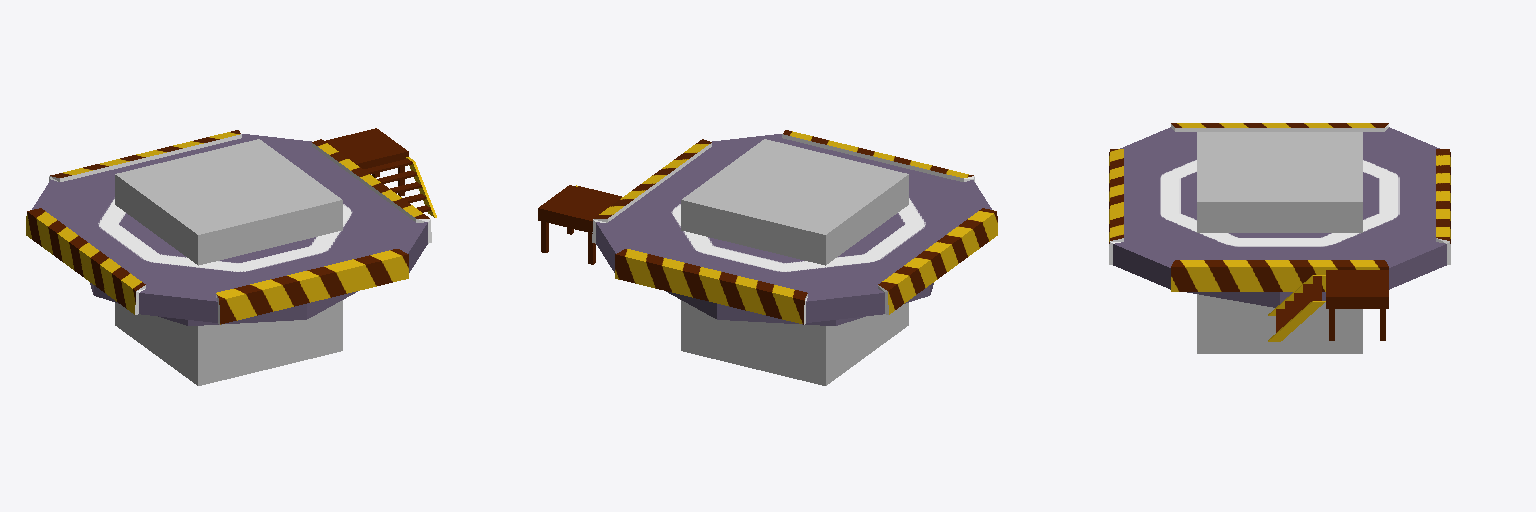
3 renders of one model, left to right at view 1: azimuth 30°, elevation 25°; view 2: azimuth 150°, elevation 25°; view 3: azimuth 270°, elevation 25°, orthographic.
Visible parts, largest first — view 1: Props_Helipad_01, Cube; view 2: Props_Helipad_01, Cube; view 3: Props_Helipad_01, Cube.
Boxes of the visible parts, x1=… form: Props_Helipad_01: x1=26, y1=128, x2=436, y2=325; Cube: x1=115, y1=139, x2=342, y2=385; Props_Helipad_01: x1=538, y1=130, x2=997, y2=325; Cube: x1=681, y1=139, x2=908, y2=385; Props_Helipad_01: x1=1109, y1=123, x2=1450, y2=341; Cube: x1=1197, y1=132, x2=1362, y2=353.
Size of the model in its own units: 4.86 by 2 by 4.11.
2 materials, 1 textured.